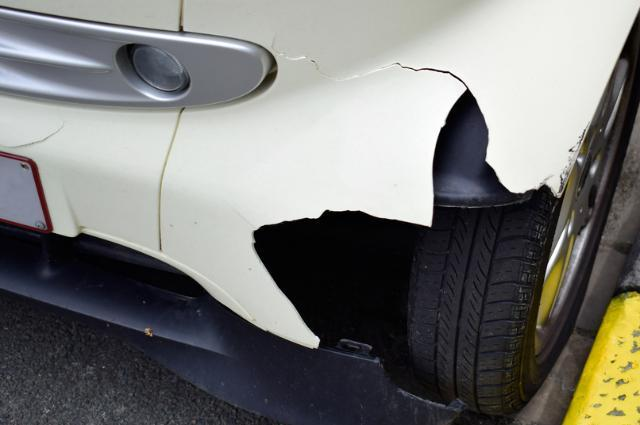Bumper: (177, 52, 601, 425)
